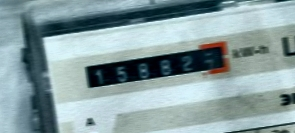1: (93, 66, 105, 85)
2: (180, 52, 193, 70)
5: (114, 63, 128, 81)
7: (202, 55, 215, 70)
8: (136, 59, 149, 78), (159, 57, 171, 74)
screen: (77, 36, 236, 92)
